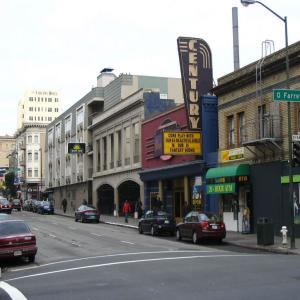Vehicle-registration-plate: (16, 251, 23, 257), (213, 227, 219, 230)
